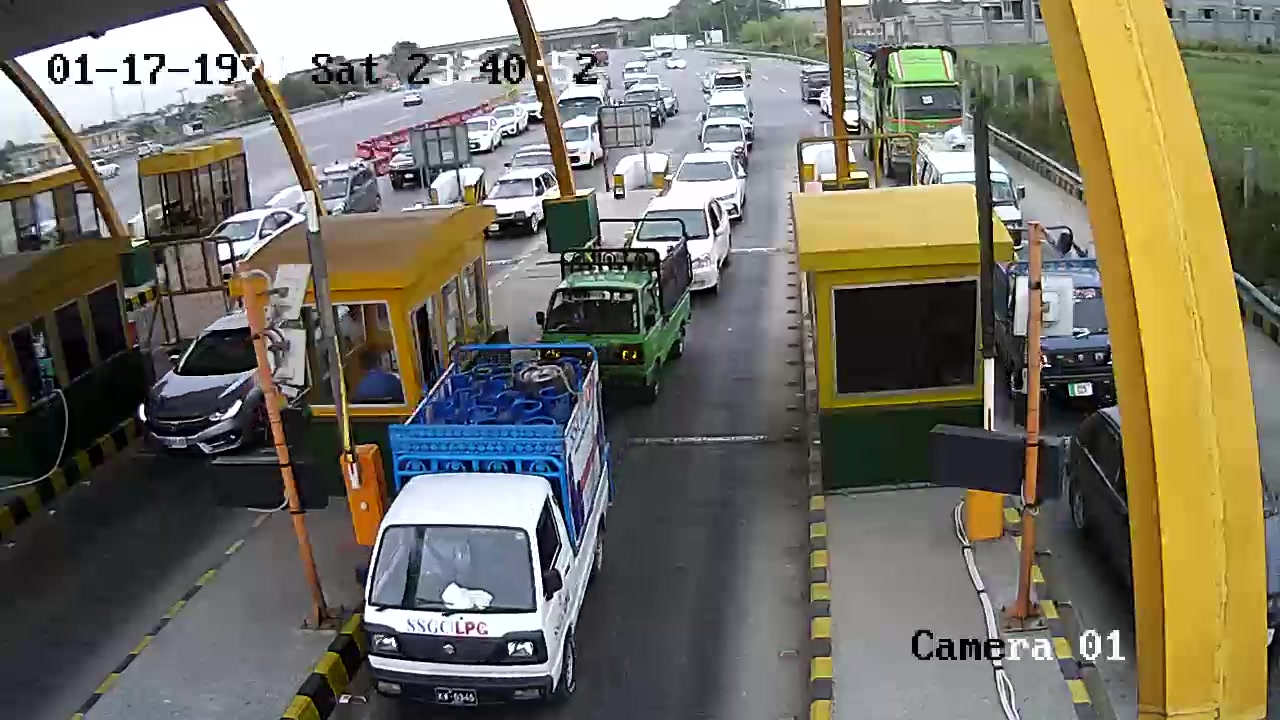F1: (357, 334, 617, 716)
